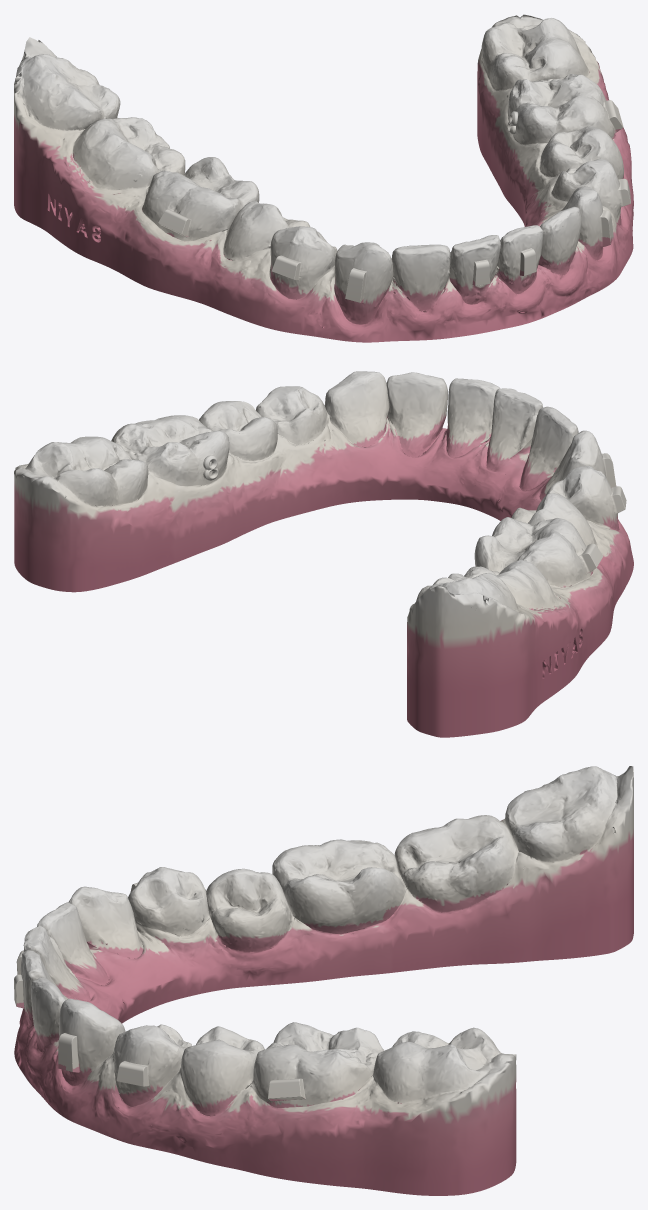
Rendered from Niya Priority Lower jaw - 08 - Model.glb.
The picture shows the model from 3 angles, top to bottom: view 1: azimuth 30°, elevation 25°; view 2: azimuth 150°, elevation 25°; view 3: azimuth 270°, elevation 25°; orthographic projection. The views are drawn at different scales.
Visible parts, largest first — view 1: Niya Priority Lower jaw - 08 - Model; view 2: Niya Priority Lower jaw - 08 - Model; view 3: Niya Priority Lower jaw - 08 - Model.
Part boxes in pixels (left/top/right/bottom): Niya Priority Lower jaw - 08 - Model: left=14, top=14, right=633, bottom=342; Niya Priority Lower jaw - 08 - Model: left=14, top=371, right=633, bottom=737; Niya Priority Lower jaw - 08 - Model: left=14, top=766, right=633, bottom=1195.
Bounding box in the file's own units: 62.72 × 16.53 × 56.58.
